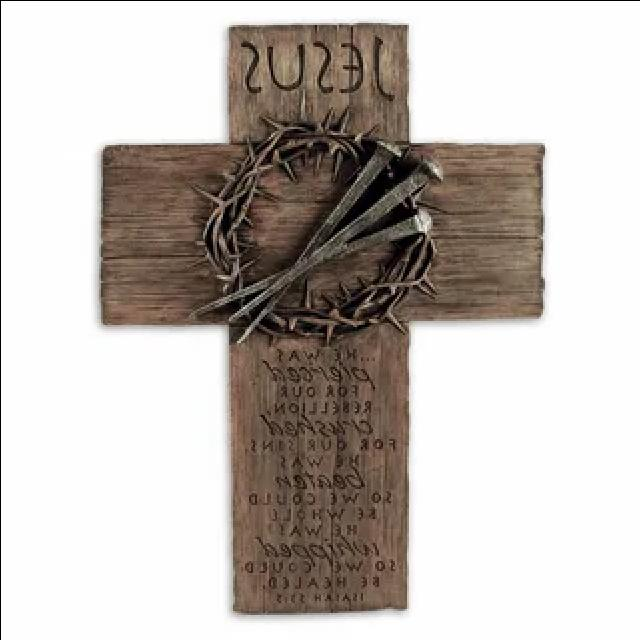crown: (184, 110, 444, 352)
